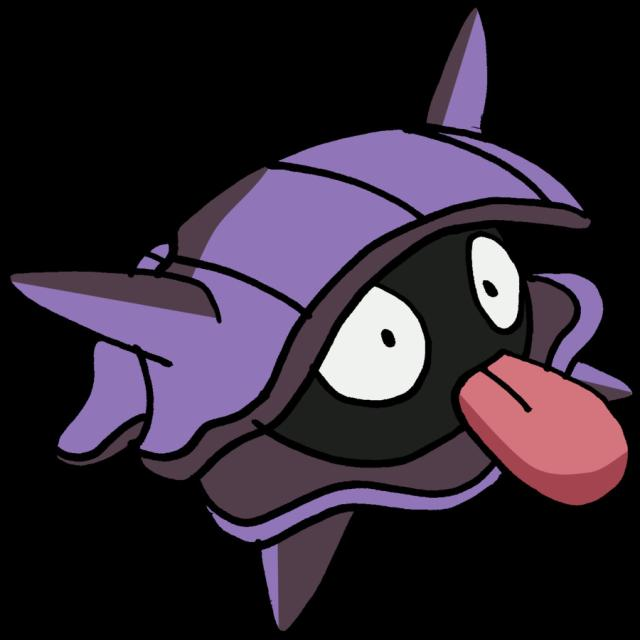Shellder: (26, 9, 634, 616)
